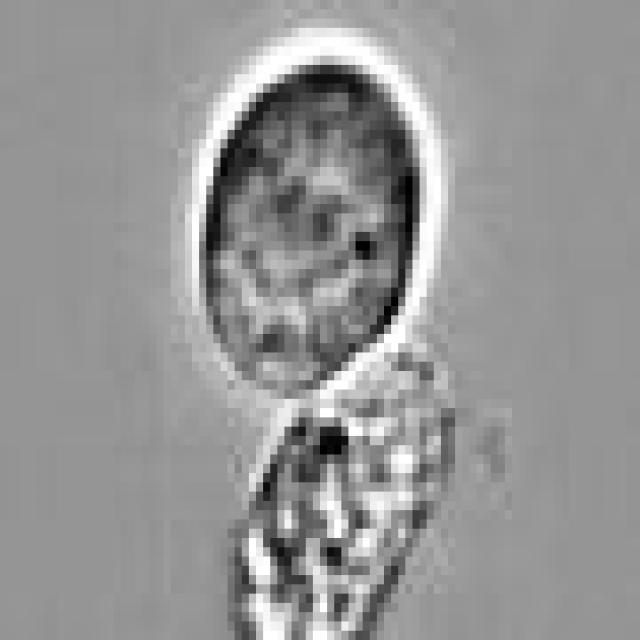Cancer Cell: (199, 47, 427, 390)
WBC: (228, 352, 448, 631)
